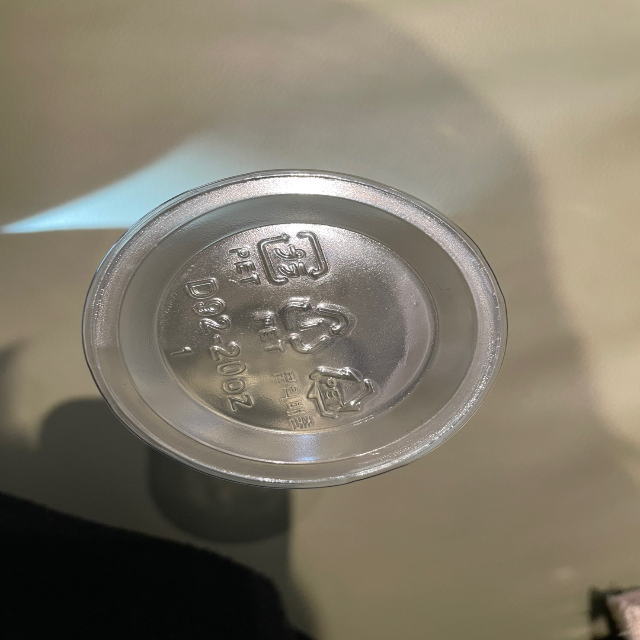pet: (267, 358, 380, 434), (254, 289, 357, 357), (223, 229, 332, 292)
